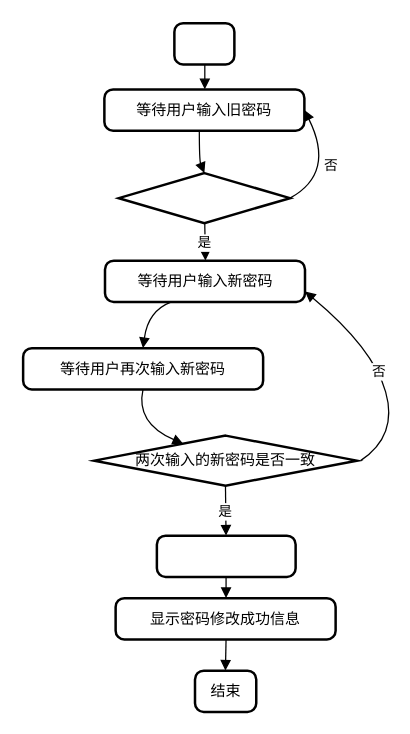
This 410x734 diagram has some shape labels left out. The centre of each missing label's shape, as x and y in pixels:
开始: (203,43)
旧密码是否正确: (204,197)
更新用户密码: (225,556)
